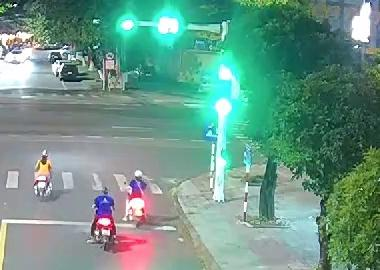green_light: (214, 60, 240, 115), (151, 12, 187, 38), (115, 12, 140, 35)
stop_line: (2, 215, 189, 233)
